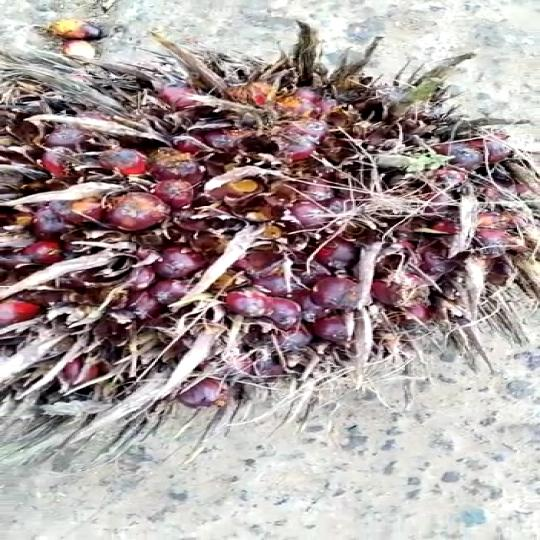terlalu masak: (0, 16, 540, 462)
